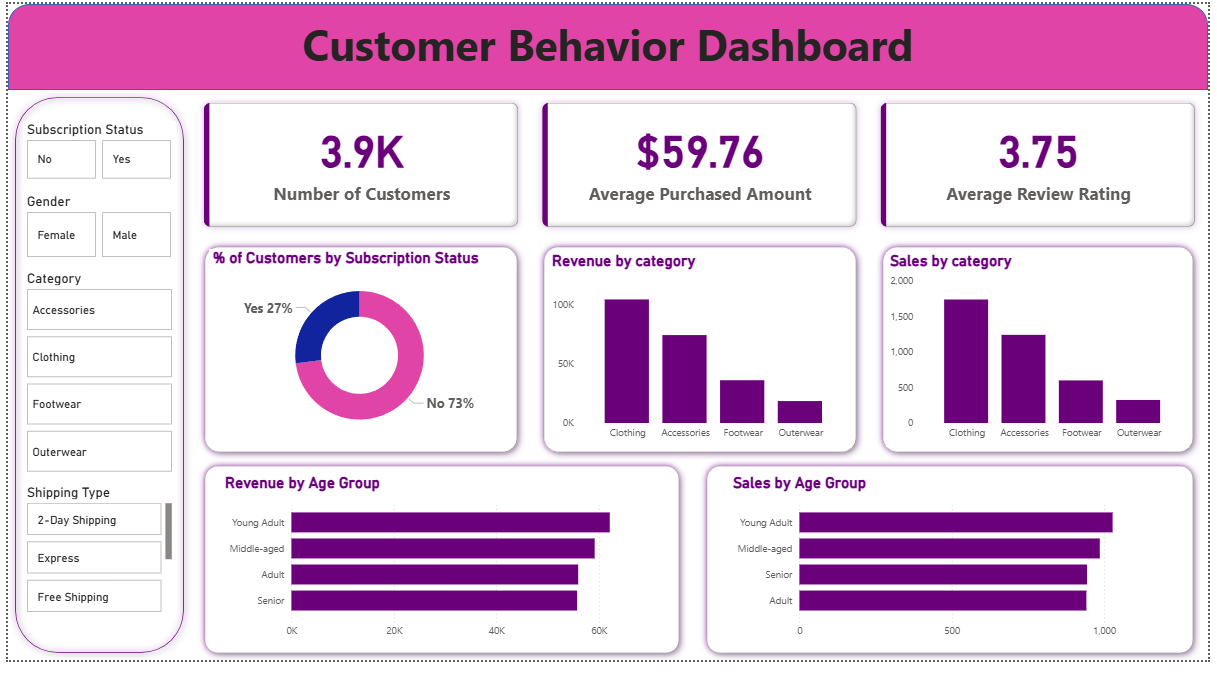

The page's visual inventory and layout, read from the dashboard file:
{"tool":"powerbi","page":{"name":"Page 1","canvas":[1500,820],"ordinal":0},"visuals":[{"type":"cardVisual","fields":{"Data":["public customer.Number of Customers","public customer.Average Purchased Amount","public customer.Average Review Rating"]},"box":[228.8,107.5,1271.2,187.5],"z":0},{"type":"shape","box":[0,0,1500,107.5],"z":1000},{"type":"textbox","box":[0,8.8,1500,81.2],"z":2000},{"type":"shape","box":[237.5,295,407.5,273.8],"z":3000},{"type":"donutChart","title":"% of Customers by Subscription Status","fields":{"Category":["public customer.subscription_status"],"Y":["CountNonNull(public customer.customer_id)"]},"box":[251.2,306.2,376.2,243.8],"z":4000},{"type":"shape","box":[661.2,295,407.5,273.8],"z":5000},{"type":"shape","box":[1085,295,405,273.8],"z":6000},{"type":"clusteredColumnChart","title":"Revenue by category","fields":{"Y":["Sum(public customer.purchase_amount)"],"Category":["public customer.category"]},"box":[675,310,378.8,243.8],"z":7000},{"type":"clusteredColumnChart","title":"Sales by category","fields":{"Y":["CountNonNull(public customer.customer_id)"],"Category":["public customer.category"]},"box":[1097.5,310,378.8,243.8],"z":8000},{"type":"shape","box":[0,107.5,228.8,712.5],"z":9000},{"type":"advancedSlicerVisual","fields":{"Values":["public customer.subscription_status"]},"box":[18.8,146.2,191.2,77.5],"z":10000},{"type":"advancedSlicerVisual","fields":{"Values":["public customer.gender"]},"box":[18.8,236.2,191.2,85],"z":11000},{"type":"advancedSlicerVisual","fields":{"Values":["public customer.category"]},"box":[18.8,332.5,191.2,257.5],"z":12000},{"type":"advancedSlicerVisual","fields":{"Values":["public customer.shipping_type"]},"box":[18.8,600,191.2,166.2],"z":13000},{"type":"shape","box":[237.5,568.8,610,251.2],"z":14000},{"type":"clusteredBarChart","title":"Revenue by Age Group","fields":{"Y":["Sum(public customer.purchase_amount)"],"Category":["public customer.age_group"]},"box":[266.2,587.5,551.2,213.8],"z":15000},{"type":"shape","box":[865,568.8,625,251.2],"z":16000},{"type":"clusteredBarChart","title":"Sales by Age Group","fields":{"Y":["CountNonNull(public customer.customer_id)"],"Category":["public customer.age_group"]},"box":[901.2,587.5,565,213.8],"z":16001}]}

Visuals, with their boxes in screenshot pixels (x1, y1, x2, y2), scaled from the page's 1500x820 canvas onto the 1217x675 screenshot:
cardVisual - public customer.Number of Customers x public customer.Average Purchased Amount: box=[186, 88, 1216, 243]
shape: box=[0, 0, 1216, 88]
textbox: box=[0, 7, 1216, 74]
shape: box=[193, 243, 523, 468]
"% of Customers by Subscription Status" donutChart: box=[204, 252, 509, 453]
shape: box=[536, 243, 867, 468]
shape: box=[880, 243, 1209, 468]
"Revenue by category" clusteredColumnChart: box=[548, 255, 855, 456]
"Sales by category" clusteredColumnChart: box=[890, 255, 1198, 456]
shape: box=[0, 88, 186, 674]
advancedSlicerVisual - public customer.subscription_status: box=[15, 120, 170, 184]
advancedSlicerVisual - public customer.gender: box=[15, 194, 170, 264]
advancedSlicerVisual - public customer.category: box=[15, 274, 170, 486]
advancedSlicerVisual - public customer.shipping_type: box=[15, 494, 170, 631]
shape: box=[193, 468, 688, 674]
"Revenue by Age Group" clusteredBarChart: box=[216, 484, 663, 660]
shape: box=[702, 468, 1209, 674]
"Sales by Age Group" clusteredBarChart: box=[731, 484, 1190, 660]
